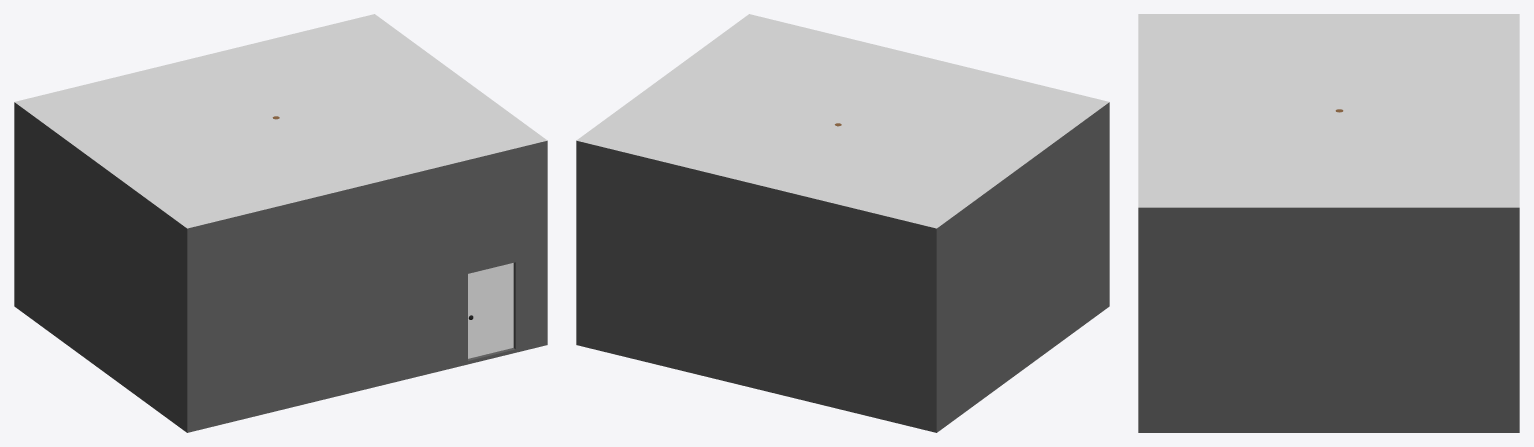
File: Bedroom Sopansa (1).fbx
3 renders of one model, left to right at view 1: azimuth 30°, elevation 25°; view 2: azimuth 150°, elevation 25°; view 3: azimuth 270°, elevation 25°, orthographic. The views are drawn at different scales.
Parts seen in each view (by area): view 1: Cube.010; view 2: Cube.010; view 3: Cube.010.
Part boxes in pixels (x1,y1,x2,y2): Cube.010: (14, 14, 547, 432); Cube.010: (576, 14, 1109, 432); Cube.010: (1138, 14, 1519, 432).
Size of the model in its own units: 2902 by 1580 by 2412.
Materials: 34 (23 with a texture image).
